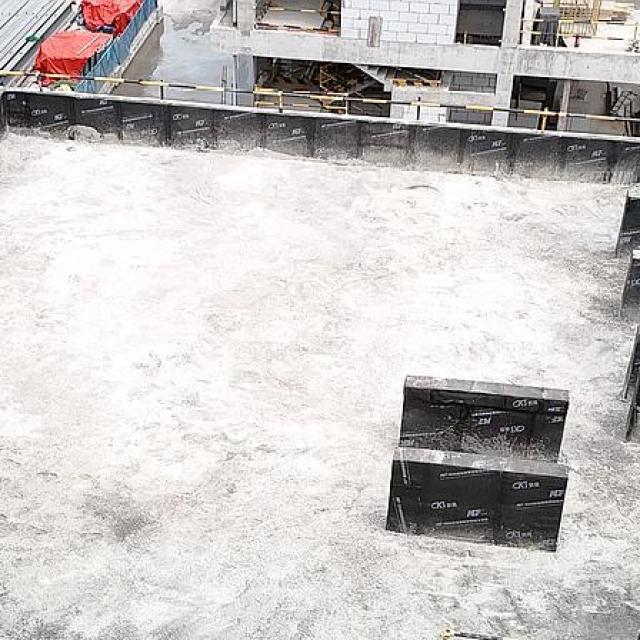edge_guardrail: (0, 70, 640, 136), (518, 14, 640, 49), (255, 4, 341, 33), (253, 87, 348, 109)
